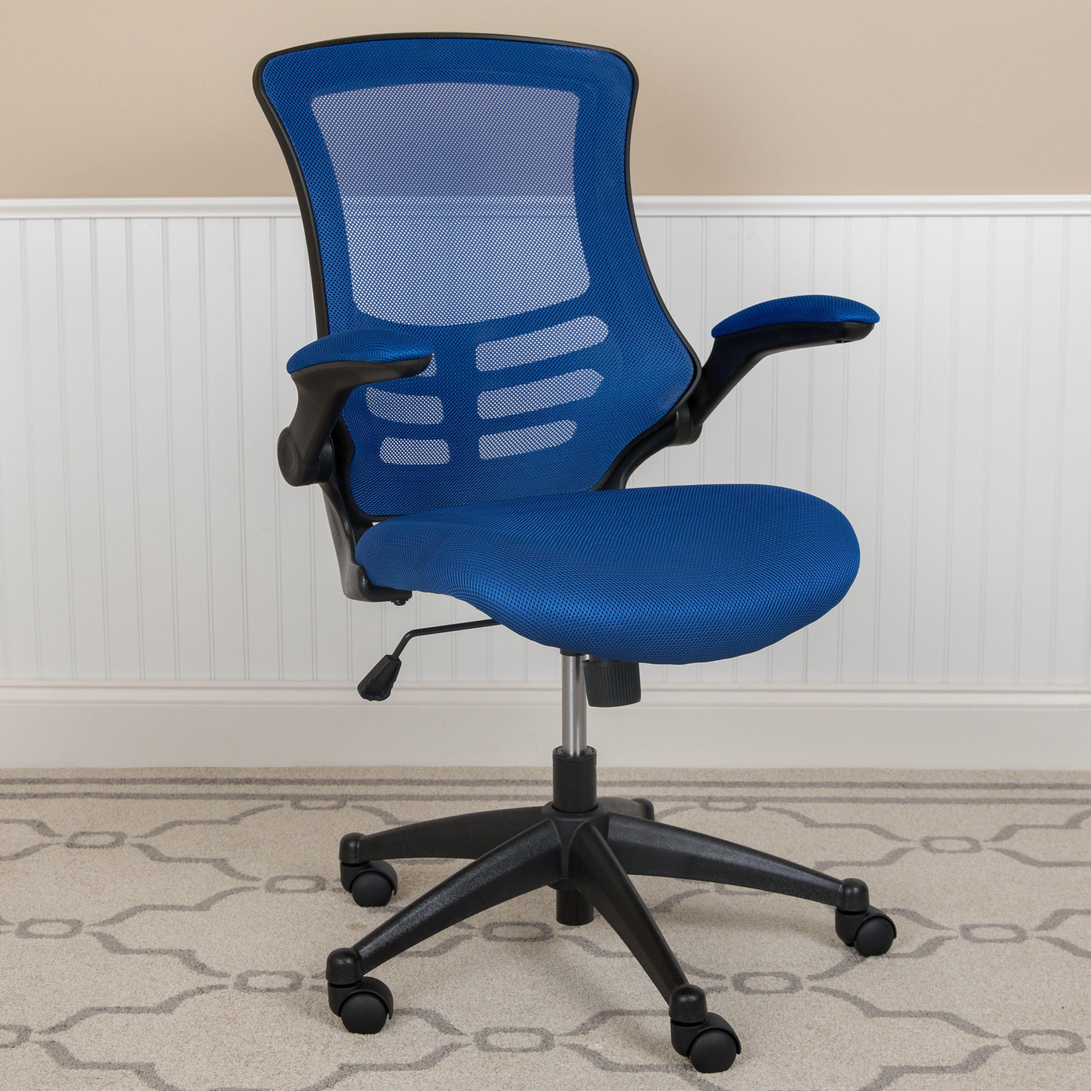chair: (236, 33, 902, 1073)
